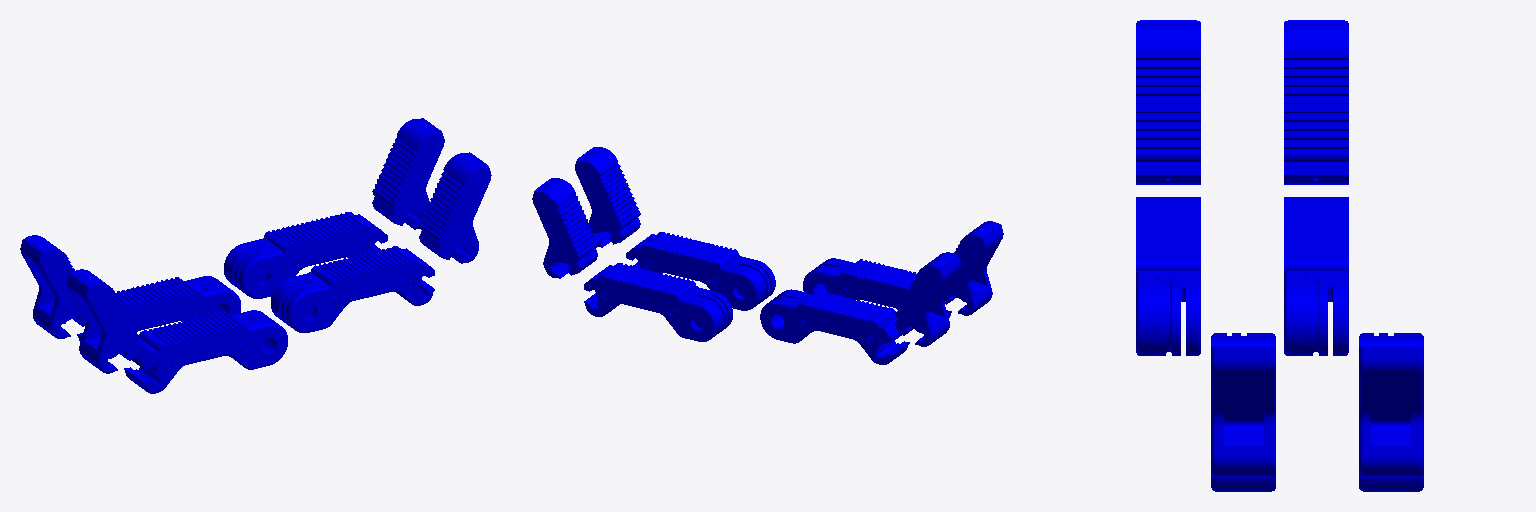
robot.urdf — modelt:
<?xml version="1.0"?>
<robot name="modelt">
  <link name="base_link">
    <visual>
      <geometry>
        <mesh filename="package://ohp_model_t_model/meshes/base_link.STL"/>
      </geometry>
      <material name="white">
        <color rgba="1 1 1 1"/>
      </material>
    </visual>
  </link>

  <link name="finger1_prox">
    <visual>
      <geometry>
	<mesh filename="package://ohp_model_t_model/meshes/finger_prox.STL"/>
      </geometry>
      <material name="blue">
        <color rgba="0 0 1 0.8"/>
      </material>
    </visual>
  </link>

  <joint name="base_to_finger1" type="revolute">
    <axis xyz="0 -1 0"/>
    <limit effort="1000.0" lower="0.0" upper="2.35619" velocity="0.5"/>
    <origin rpy="0 0 0" xyz="0.01453 -0.00902 0.05475"/>
    <parent link ="base_link"/>
    <child link="finger1_prox"/>
  </joint>

  <link name="finger1_dist">
    <visual>
      <geometry>
	<mesh filename="package://ohp_model_t_model/meshes/finger_dist.STL"/>
      </geometry>
      <material name="blue">
        <color rgba="0 0 1 0.8"/>
      </material>
    </visual>
  </link>

  <joint name="prox_to_dist1" type="revolute">
    <axis xyz="0 -1 0"/>
    <limit effort="1000.0" lower="0.314159" upper="1.885" velocity="0.5"/>
    <origin rpy="0 0 0" xyz="0.061 0 0.004"/>
    <parent link ="finger1_prox"/>
    <child link="finger1_dist"/>
  </joint>

  <link name="finger2_prox">
    <visual>
      <geometry>
        <mesh filename="package://ohp_model_t_model/meshes/finger_prox.STL"/>
      </geometry>
      <material name="blue"/>
    </visual>
  </link>

  <joint name="base_to_finger2" type="revolute">
    <axis xyz="0 -1 0"/>
    <limit effort="1000.0" lower="0.0" upper="2.35619" velocity="0.5"/>
    <origin rpy="0 0 0" xyz="0.01453 0.02765 0.05475"/>
    <parent link ="base_link"/>
    <child link="finger2_prox"/>
  </joint>

  <link name="finger2_dist">
    <visual>
      <geometry>
        <mesh filename="package://ohp_model_t_model/meshes/finger_dist.STL"/>
      </geometry>
      <material name="blue">
        <color rgba="0 0 1 0.8"/>
      </material>
    </visual>
  </link>

  <joint name="prox_to_dist2" type="revolute">
    <axis xyz="0 -1 0"/>
    <limit effort="1000.0" lower="0.314159" upper="1.885" velocity="0.5"/>
    <origin rpy="0 0 0" xyz="0.061 0 0.004"/>
    <parent link ="finger2_prox"/>
    <child link="finger2_dist"/>
  </joint>

  <link name="finger3_prox">
    <visual>
      <geometry>
        <mesh filename="package://ohp_model_t_model/meshes/finger_prox.STL"/>
      </geometry>
      <material name="blue"/>
    </visual>
  </link>

  <joint name="base_to_finger3" type="revolute">
    <axis xyz="0 -1 0"/>
    <limit effort="1000.0" lower="0.0" upper="2.35619" velocity="0.5"/>
    <origin rpy="0 0 3.14159" xyz="-0.01453 0.00902 0.05475"/>
    <parent link ="base_link"/>
    <child link="finger3_prox"/>
  </joint>

  <link name="finger3_dist">
    <visual>
      <geometry>
        <mesh filename="package://ohp_model_t_model/meshes/finger_dist.STL"/>
      </geometry>
      <material name="blue">
        <color rgba="0 0 1 0.8"/>
      </material>
    </visual>
  </link>

  <joint name="prox_to_dist3" type="revolute">
    <axis xyz="0 -1 0"/>
    <limit effort="1000.0" lower="0.314159" upper="1.885" velocity="0.5"/>
    <origin rpy="0 0 0" xyz="0.061 0 0.004"/>
    <parent link ="finger3_prox"/>
    <child link="finger3_dist"/>
  </joint>

  <link name="finger4_prox">
    <visual>
      <geometry>
        <mesh filename="package://ohp_model_t_model/meshes/finger_prox.STL"/>
      </geometry>
      <material name="blue"/>
    </visual>
  </link>

  <joint name="base_to_finger4" type="revolute">
    <axis xyz="0 -1 0"/>
    <limit effort="1000.0" lower="0.0" upper="2.35619" velocity="0.5"/>
    <origin rpy="0 0 3.14159" xyz="-0.01453 -0.02765 0.05475"/>
    <parent link ="base_link"/>
    <child link="finger4_prox"/>
  </joint>

  <link name="finger4_dist">
    <visual>
      <geometry>
        <mesh filename="package://ohp_model_t_model/meshes/finger_dist.STL"/>
      </geometry>
      <material name="blue">
        <color rgba="0 0 1 0.8"/>
      </material>
    </visual>
  </link>

  <joint name="prox_to_dist4" type="revolute">
    <axis xyz="0 -1 0"/>
    <limit effort="1000.0" lower="0.314159" upper="1.885" velocity="0.5"/>
    <origin rpy="0 0 0" xyz="0.061 0 0.004"/>
    <parent link ="finger4_prox"/>
    <child link="finger4_dist"/>
  </joint>
</robot>

--- What the picture shows (computed from the rendered views, not written in the file) ---
Views: 3 orthographic renders of the robot side by side, from view 1: azimuth 30°, elevation 25°; view 2: azimuth 150°, elevation 25°; view 3: azimuth 270°, elevation 25°.
Robot: modelt — 9 links, 8 joints (8 revolute); root link base_link; default pose: joints at zero except 4 at the middle of their limits (prox_to_dist1 = 1.1, prox_to_dist2 = 1.1, prox_to_dist3 = 1.1, prox_to_dist4 = 1.1).
Links seen in each view (by area): view 1: finger1_prox, finger4_prox, finger2_prox, finger1_dist, finger2_dist, finger3_prox, finger4_dist, finger3_dist; view 2: finger2_prox, finger3_prox, finger1_prox, finger2_dist, finger1_dist, finger4_prox, finger3_dist, finger4_dist; view 3: finger3_dist, finger4_dist, finger3_prox, finger4_prox, finger2_dist, finger1_dist, finger1_prox, finger2_prox.
Boxes of the visible links, bbox=[...] form: finger1_prox: bbox=[271, 246, 434, 332]; finger4_prox: bbox=[124, 310, 287, 393]; finger2_prox: bbox=[224, 212, 387, 298]; finger1_dist: bbox=[419, 152, 491, 263]; finger2_dist: bbox=[372, 118, 444, 229]; finger3_prox: bbox=[77, 276, 240, 358]; finger4_dist: bbox=[67, 269, 139, 373]; finger3_dist: bbox=[20, 235, 85, 338]; finger2_prox: bbox=[584, 263, 732, 341]; finger3_prox: bbox=[760, 289, 909, 364]; finger1_prox: bbox=[626, 232, 775, 310]; finger2_dist: bbox=[532, 178, 597, 278]; finger1_dist: bbox=[575, 147, 640, 247]; finger4_prox: bbox=[803, 258, 951, 333]; finger3_dist: bbox=[895, 252, 960, 346]; finger4_dist: bbox=[944, 221, 1003, 315]; finger3_dist: bbox=[1284, 20, 1348, 184]; finger4_dist: bbox=[1136, 20, 1200, 184]; finger3_prox: bbox=[1284, 197, 1348, 355]; finger4_prox: bbox=[1136, 197, 1200, 355]; finger2_dist: bbox=[1359, 336, 1423, 476]; finger1_dist: bbox=[1211, 336, 1275, 476]; finger1_prox: bbox=[1211, 333, 1275, 491]; finger2_prox: bbox=[1359, 333, 1423, 491].
Bounding box of the posed robot: 0.1941 × 0.0713 × 0.0534 m (x, y, z).
8 mesh visuals loaded from 3 distinct referenced files (2 binary STL); not drawn: 1 (reference not matched to a file when rendering).